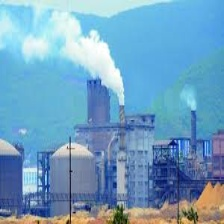smoke: (40, 22, 136, 95)
